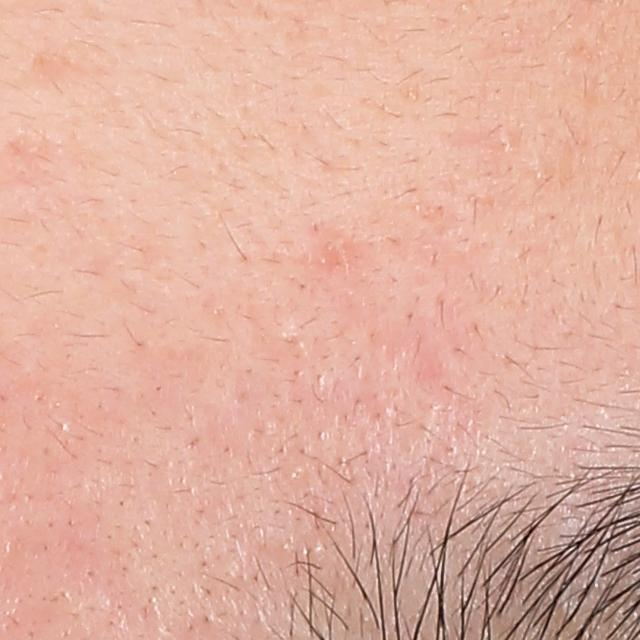comedo: (497, 126, 520, 159)
